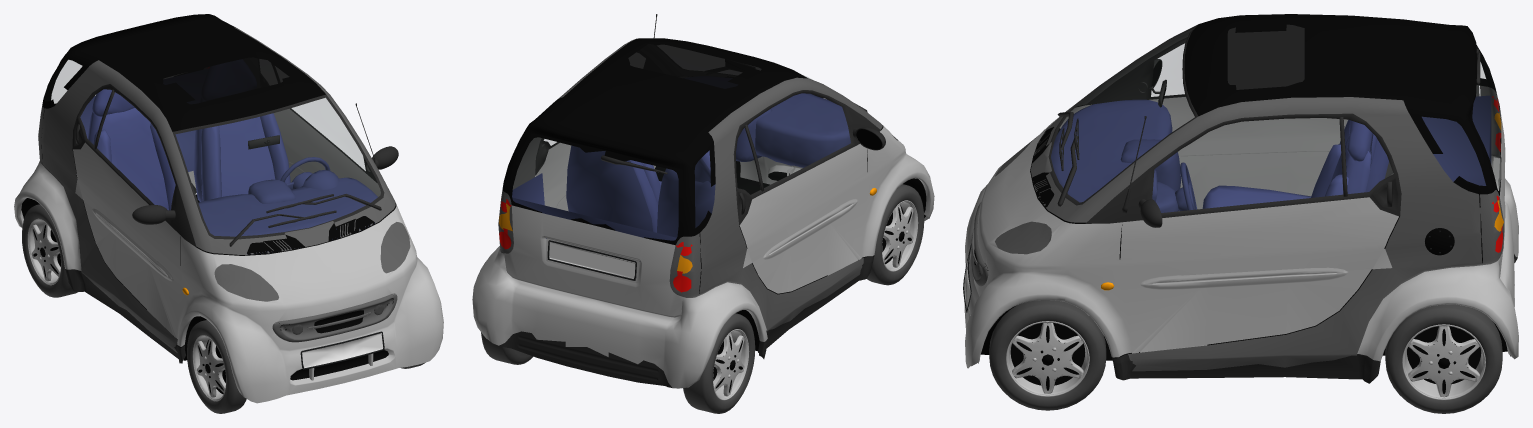
The picture shows the model from 3 angles, left to right: view 1: azimuth 30°, elevation 25°; view 2: azimuth 150°, elevation 25°; view 3: azimuth 270°, elevation 25°; orthographic projection. The views are drawn at different scales.
Visible parts, largest first — view 1: instance_0, instance_1; view 2: instance_0, instance_1; view 3: instance_0, instance_1.
Part boxes in pixels (box(x1,y1,x2,y2)): instance_0: box(14, 14, 443, 413); instance_1: box(27, 218, 226, 401); instance_0: box(472, 14, 934, 413); instance_1: box(713, 200, 918, 400); instance_0: box(963, 14, 1518, 413); instance_1: box(1006, 321, 1485, 400).
Size of the model in its own units: 44.53 by 65.94 by 39.19.
